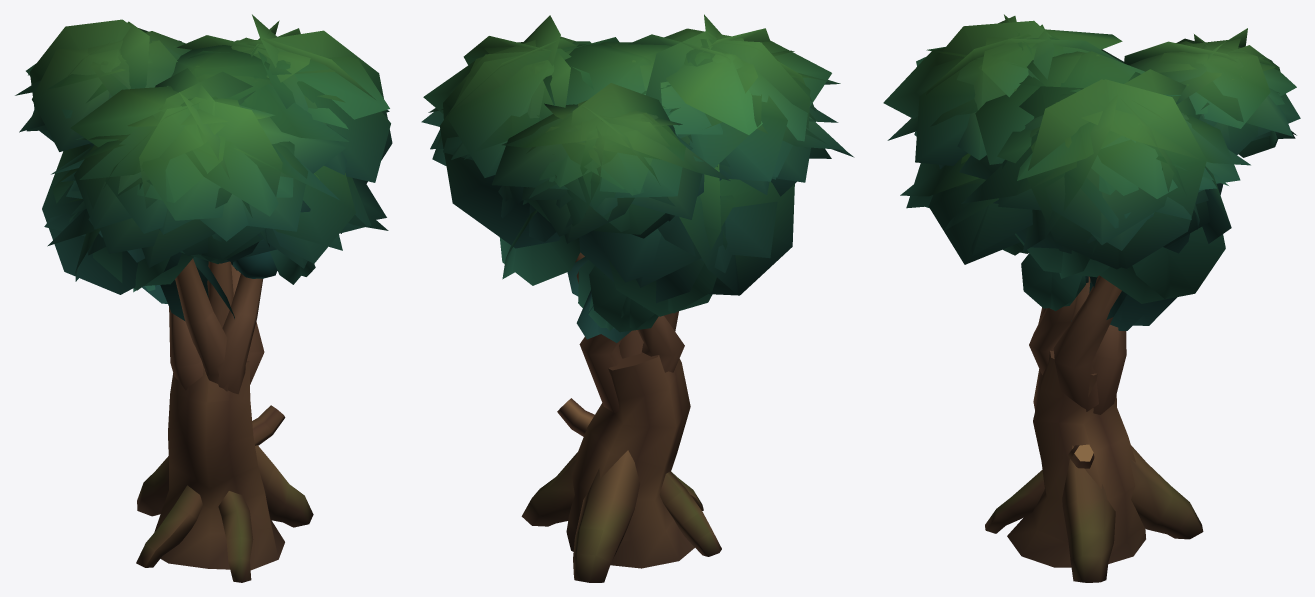
The model's file is tree_green_2.glb.
3 renders of one model, left to right at view 1: azimuth 30°, elevation 25°; view 2: azimuth 150°, elevation 25°; view 3: azimuth 270°, elevation 25°, orthographic. The views are drawn at different scales.
Visible parts, largest first — view 1: crown, wood; view 2: crown, wood; view 3: crown, wood.
Boxes of the visible parts, x1,y1,x2,y2 form: crown: (15,14,392,320); wood: (136,251,313,582); crown: (421,14,854,342); wood: (521,252,721,582); crown: (883,14,1300,330); wood: (985,275,1203,582).
Bounding box in the file's own units: 1.58 × 2.09 × 1.62.
